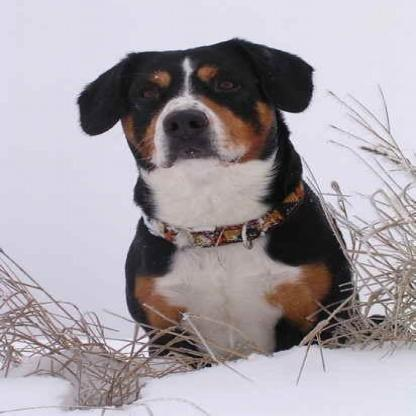EntleBucher: (70, 34, 368, 366)
